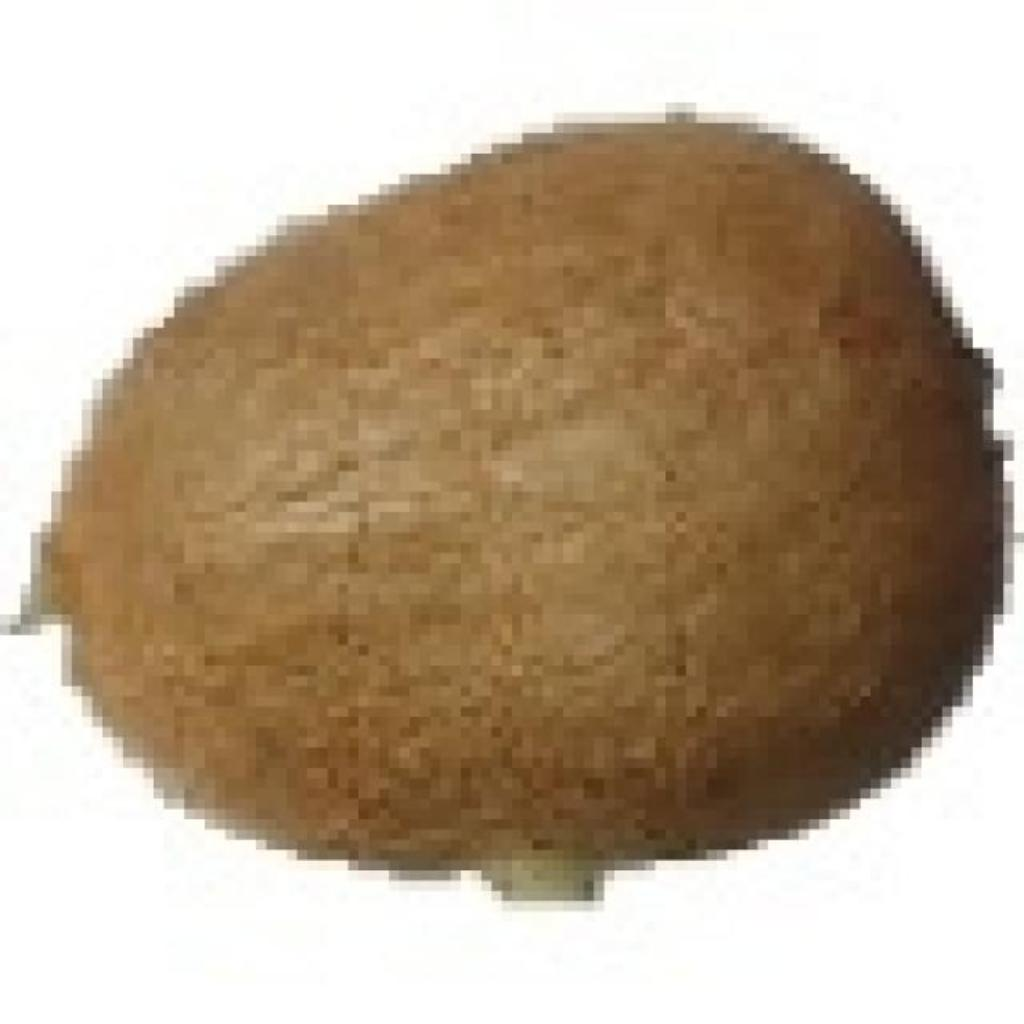kiwi: (31, 113, 983, 870)
